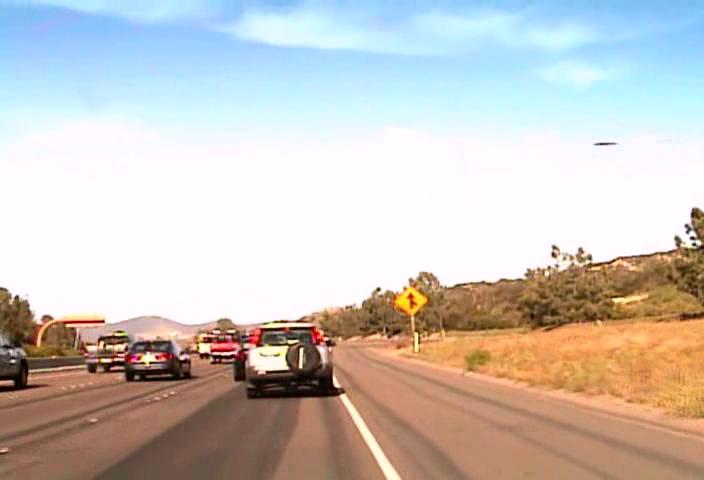merge: (394, 284, 428, 316)
